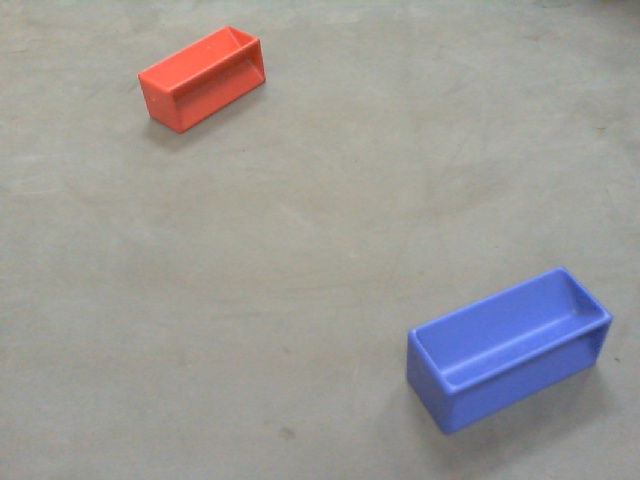BlueSample: (405, 262, 622, 435)
RedSample: (137, 20, 268, 133)
